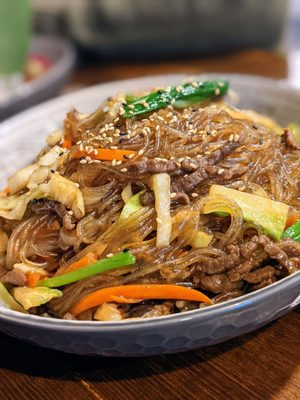curry: (120, 79, 231, 121)
sushi: (0, 155, 300, 387)
